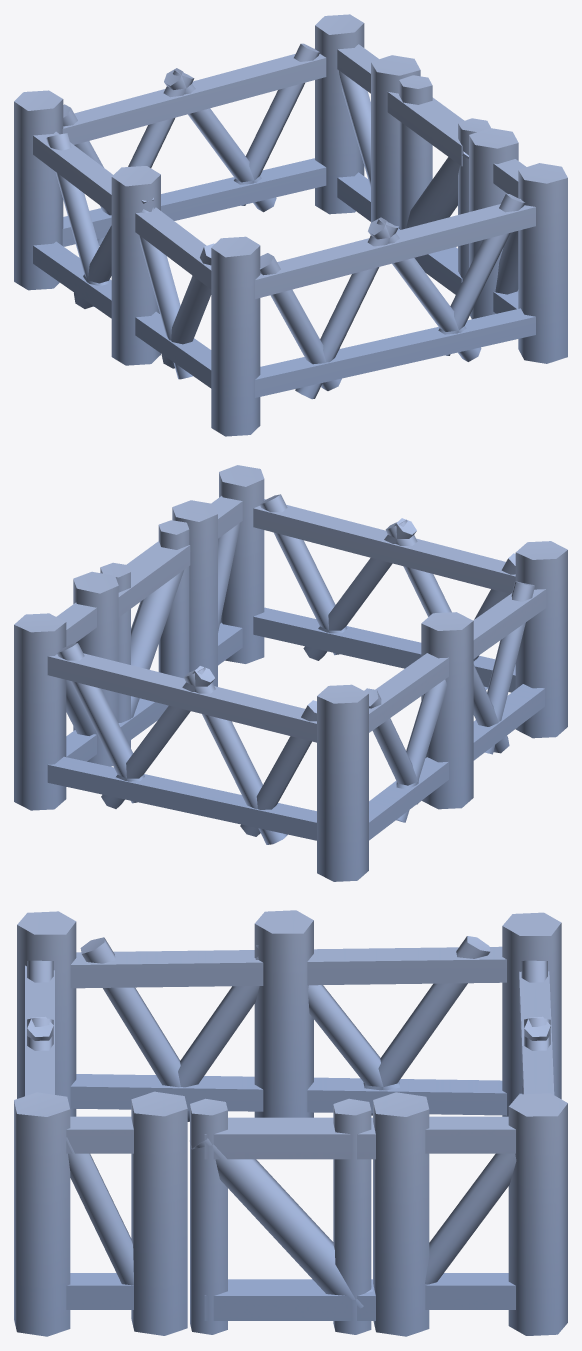
Rendered from mdl_Cage.fbx.
3 renders of one model, top to bottom at view 1: azimuth 30°, elevation 25°; view 2: azimuth 150°, elevation 25°; view 3: azimuth 270°, elevation 25°, orthographic. The views are drawn at different scales.
Visible parts, largest first — view 1: mdl_Cage, mdl_CageDoor; view 2: mdl_Cage, mdl_CageDoor; view 3: mdl_Cage, mdl_CageDoor.
Part boxes in pixels (x1,y1,x2,y2): mdl_Cage: (14,14,567,436); mdl_CageDoor: (387,75,490,294); mdl_Cage: (14,465,567,881); mdl_CageDoor: (100,520,190,747); mdl_Cage: (14,910,567,1336); mdl_CageDoor: (190,1098,375,1334).
Size of the model in its own units: 4.39 by 2.2 by 4.97.
